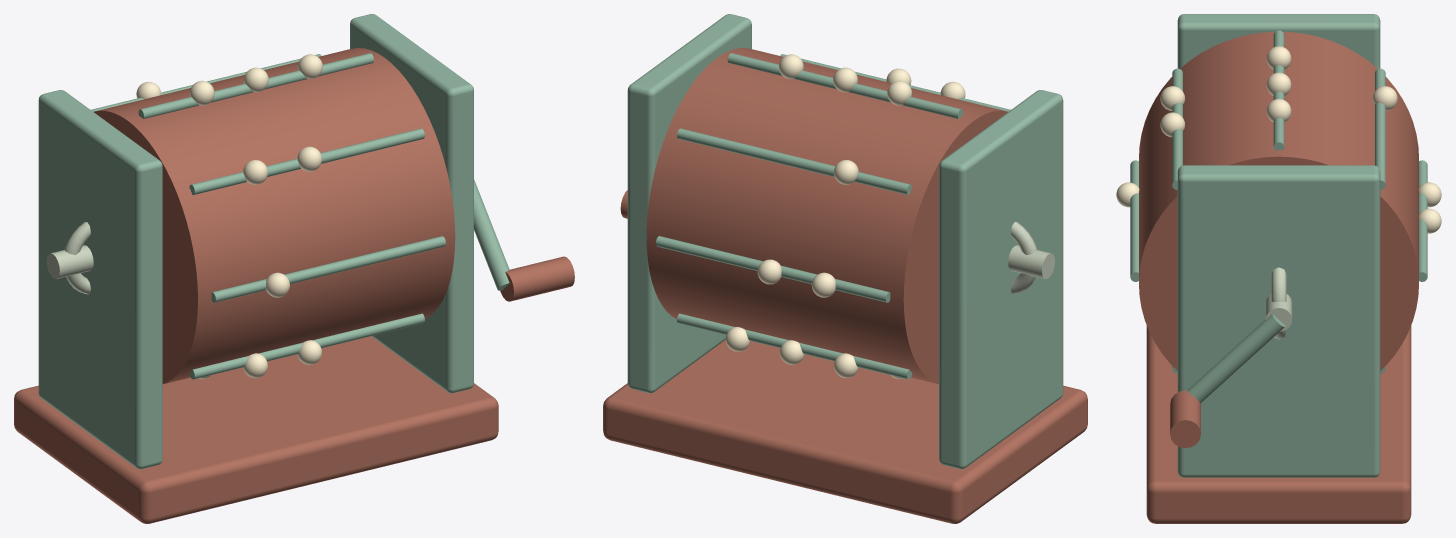
The model's file is enchanted-harp-garden-and-music-sanctuary-rotating-not-01811602__30433.glb.
3 views of the same model, side by side, from view 1: azimuth 30°, elevation 25°; view 2: azimuth 150°, elevation 25°; view 3: azimuth 270°, elevation 25° (orthographic).
Parts seen in each view (by area): view 1: rotating-note-drum; view 2: rotating-note-drum; view 3: rotating-note-drum.
Boxes of the visible parts, x1,y1,x2,y2 form: rotating-note-drum: (14,14,574,523); rotating-note-drum: (603,14,1087,523); rotating-note-drum: (1116,14,1441,523).
Bounding box in the file's own units: 0.69 × 0.519 × 0.418.
